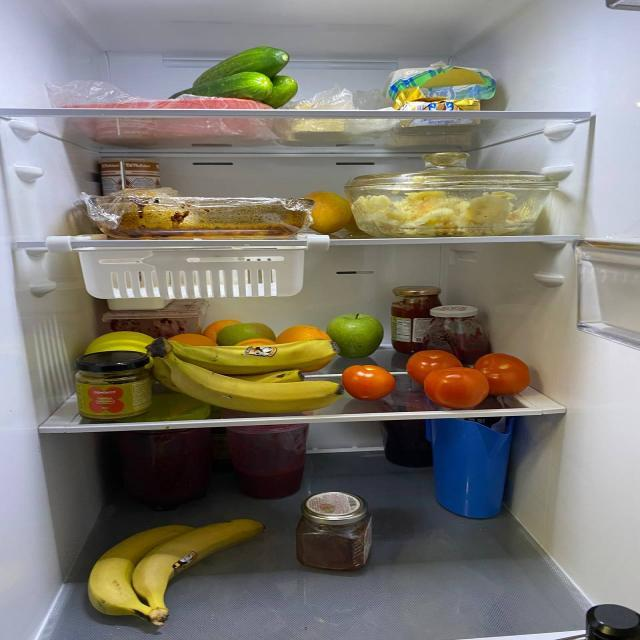Apple: (326, 309, 386, 356), (305, 192, 355, 231), (216, 325, 280, 343)
Banana: (60, 513, 264, 628), (141, 335, 347, 412)
Cucumber: (178, 51, 290, 82), (160, 72, 266, 98), (261, 74, 296, 106)
Orange: (278, 323, 328, 343), (198, 317, 240, 335), (165, 334, 215, 348)
Tomato: (470, 351, 534, 396), (420, 370, 498, 406), (408, 348, 468, 383), (342, 364, 400, 398)
